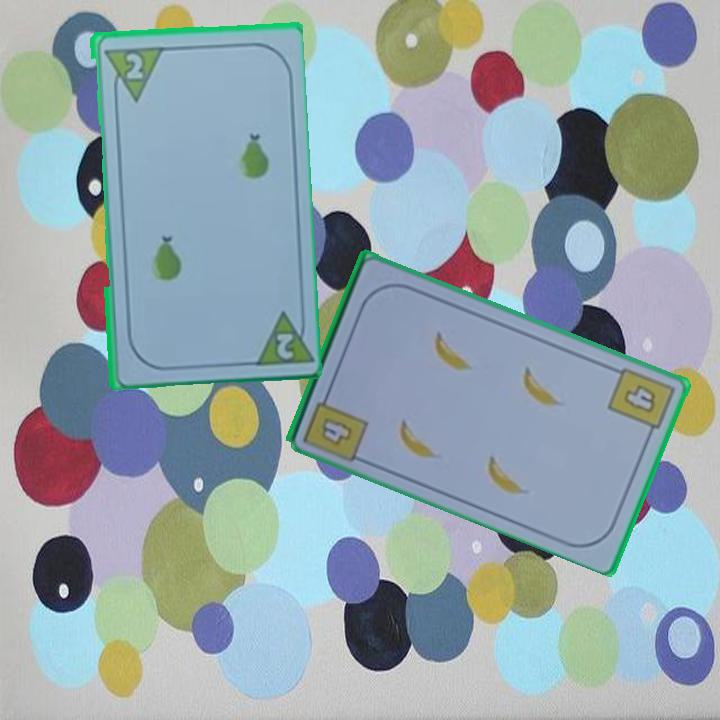2p: (119, 49, 146, 82), (272, 329, 298, 362)
4b: (604, 363, 678, 441), (318, 413, 356, 449)
